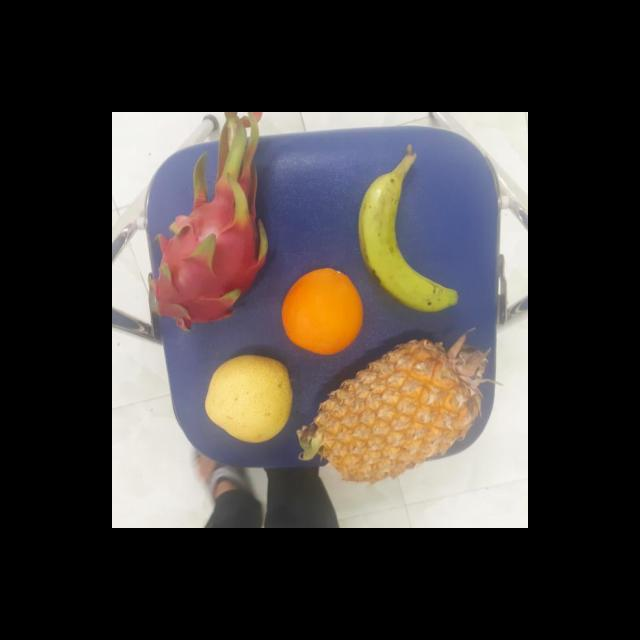banana: (358, 161, 450, 307)
orange: (281, 266, 365, 354)
pear: (204, 353, 296, 444)
pineapple: (310, 336, 491, 481)
pitaya: (150, 154, 274, 336)
